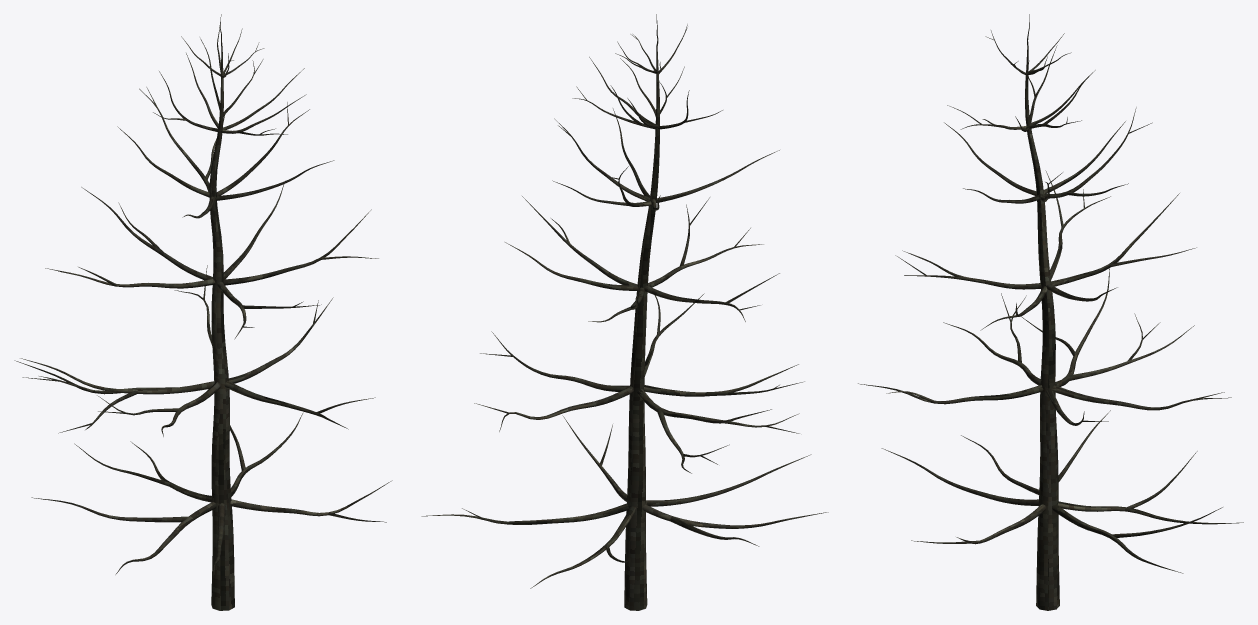
Rendered from Tree2.glb.
3 views of the same model, side by side, from view 1: azimuth 30°, elevation 25°; view 2: azimuth 150°, elevation 25°; view 3: azimuth 270°, elevation 25° (orthographic). The views are drawn at different scales.
Parts seen in each view (by area): view 1: tree; view 2: tree; view 3: tree.
Boxes of the visible parts, bbox=[...] form: tree: bbox=[14, 14, 392, 610]; tree: bbox=[421, 14, 828, 610]; tree: bbox=[858, 14, 1243, 610].
Bounding box in the file's own units: 4.69 × 8.38 × 5.01.
1 material, 1 textured.
